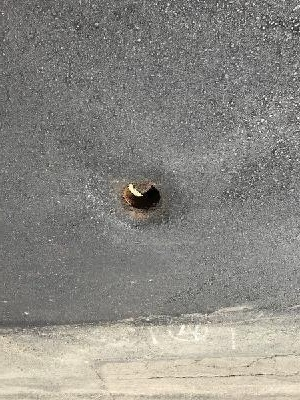pothole: (118, 179, 166, 215)
